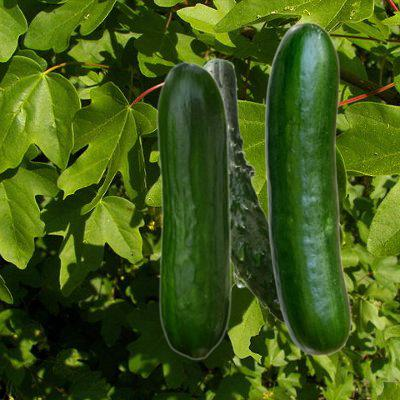cucumber: (203, 58, 352, 331), (264, 21, 350, 355), (156, 61, 231, 359)
